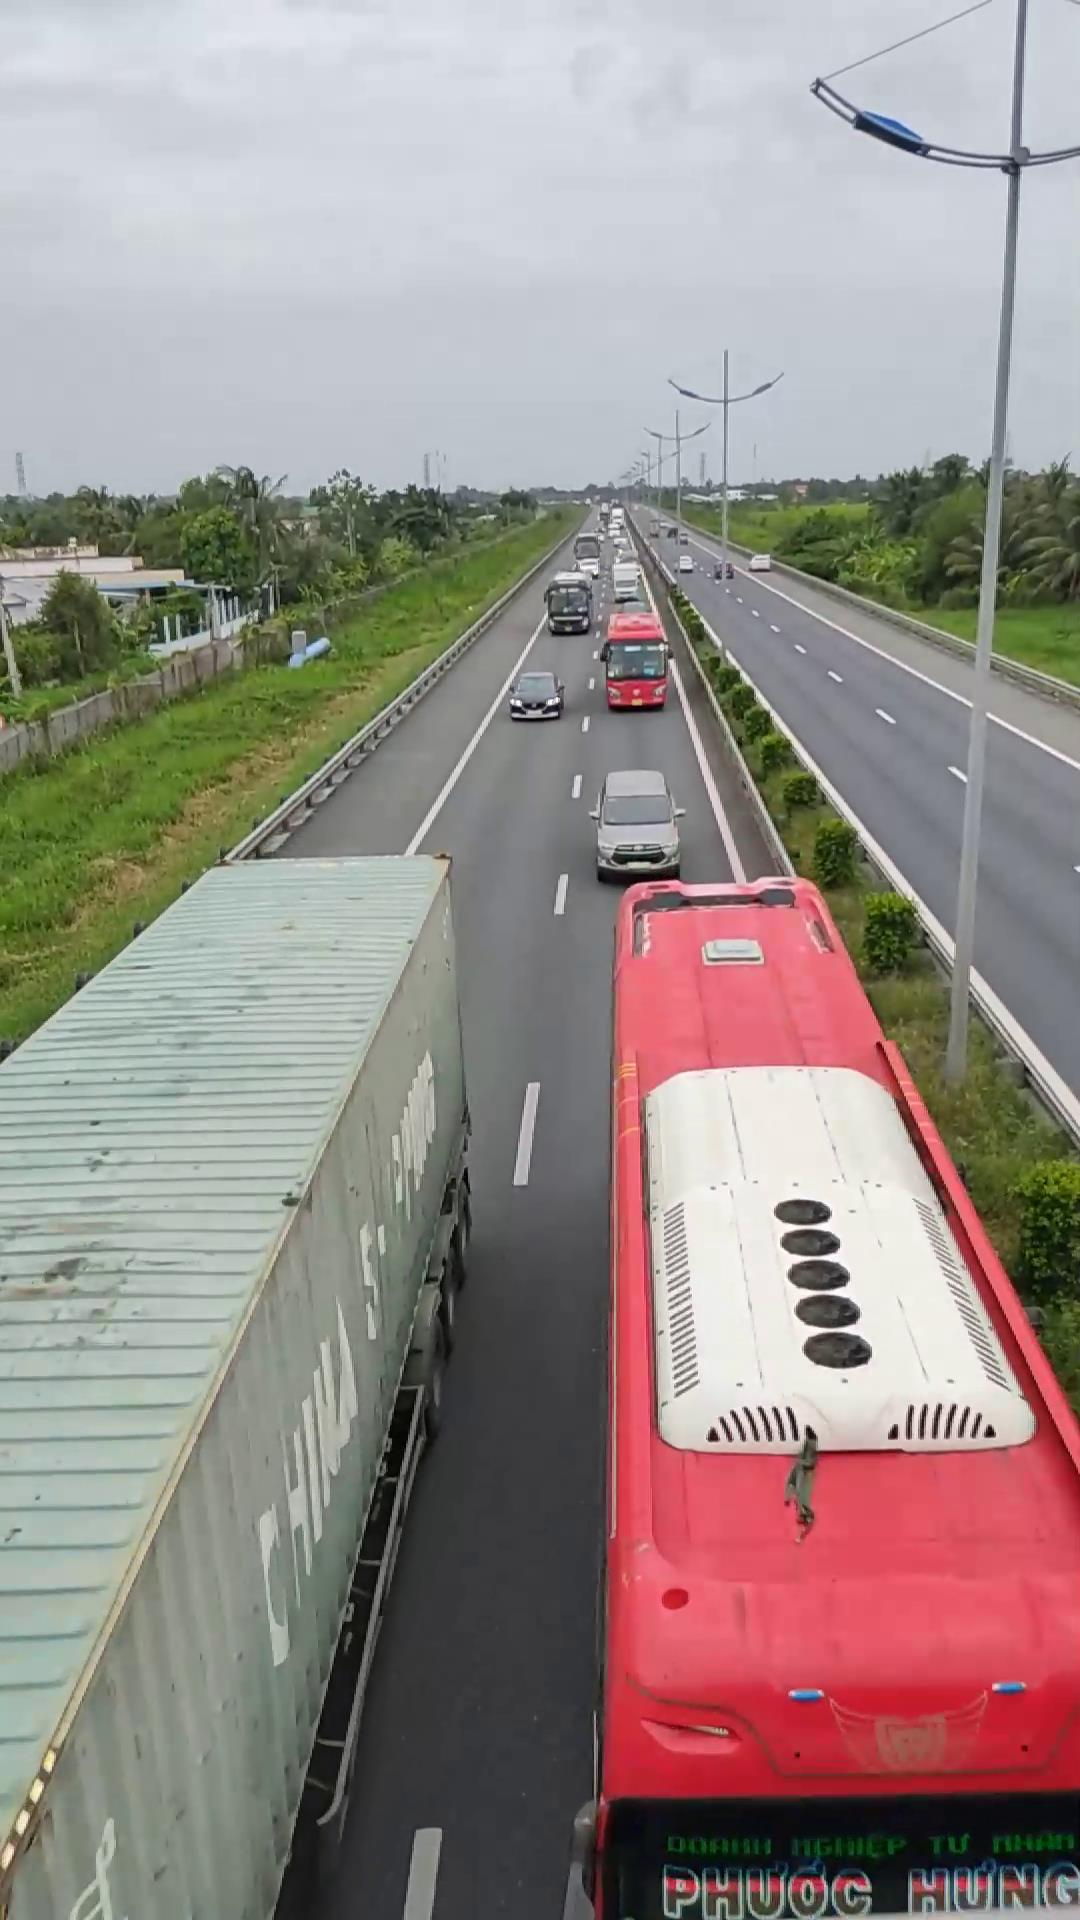bus: (594, 869, 1076, 1839)
car: (588, 764, 683, 877)
container: (0, 857, 471, 1918)
